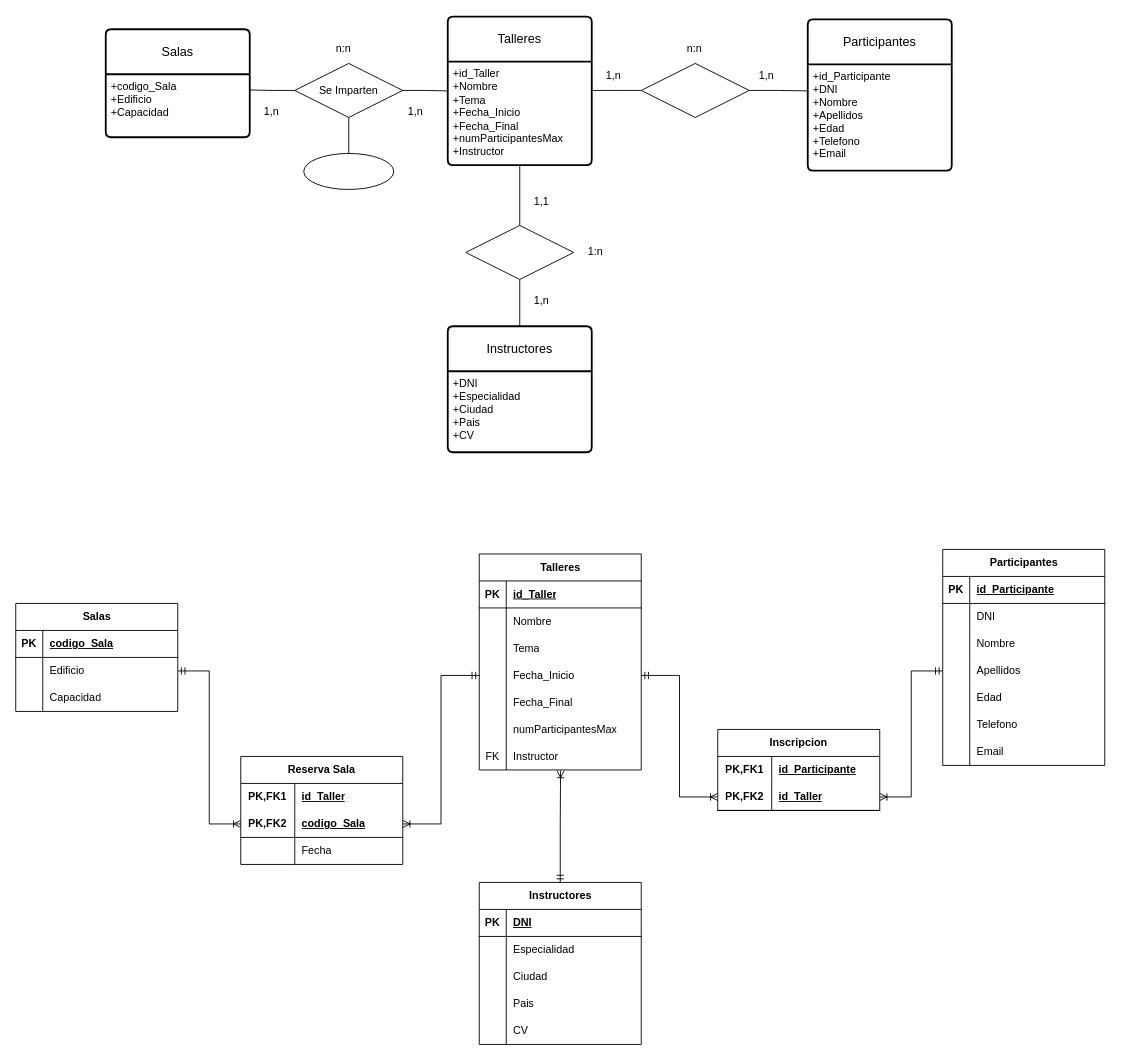
Some shapes in this 1121 by 1060 pixel diagram are drawn without their labels. Each missing label, with the centre of its shape:
Asisten: the point at 694,90
Dia y Hora: the point at 348,171
Imparte: the point at 519,252
